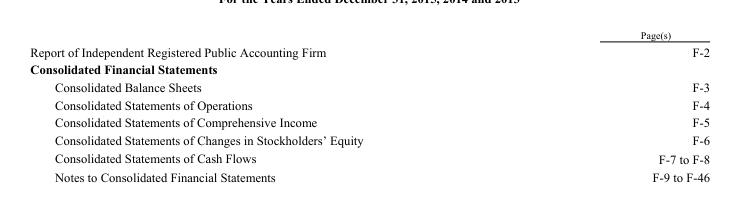table: (29, 28, 709, 183)
table column: (29, 28, 501, 183), (501, 28, 709, 183)
table column header: (29, 28, 709, 60)
table projected row header: (29, 60, 709, 77)
table row: (29, 28, 709, 60), (29, 148, 709, 167), (29, 77, 709, 95), (29, 95, 709, 113), (29, 130, 709, 148), (29, 60, 709, 77), (29, 113, 709, 130), (29, 167, 709, 183)
